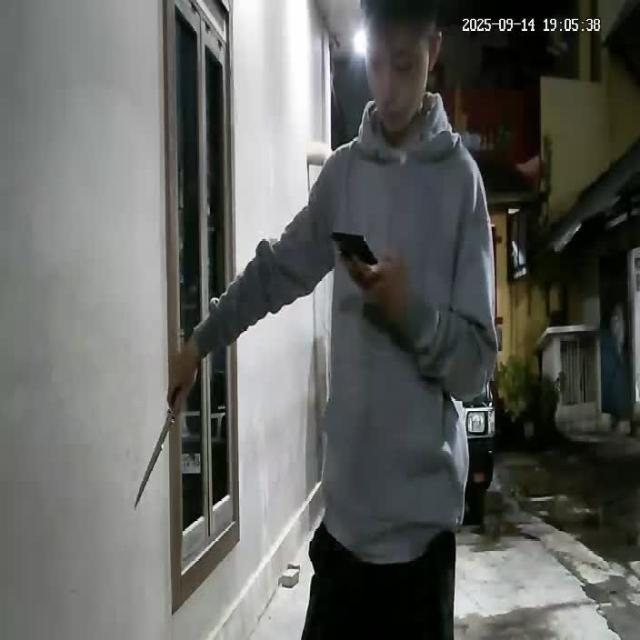senjata_tajam: (130, 396, 180, 512)
